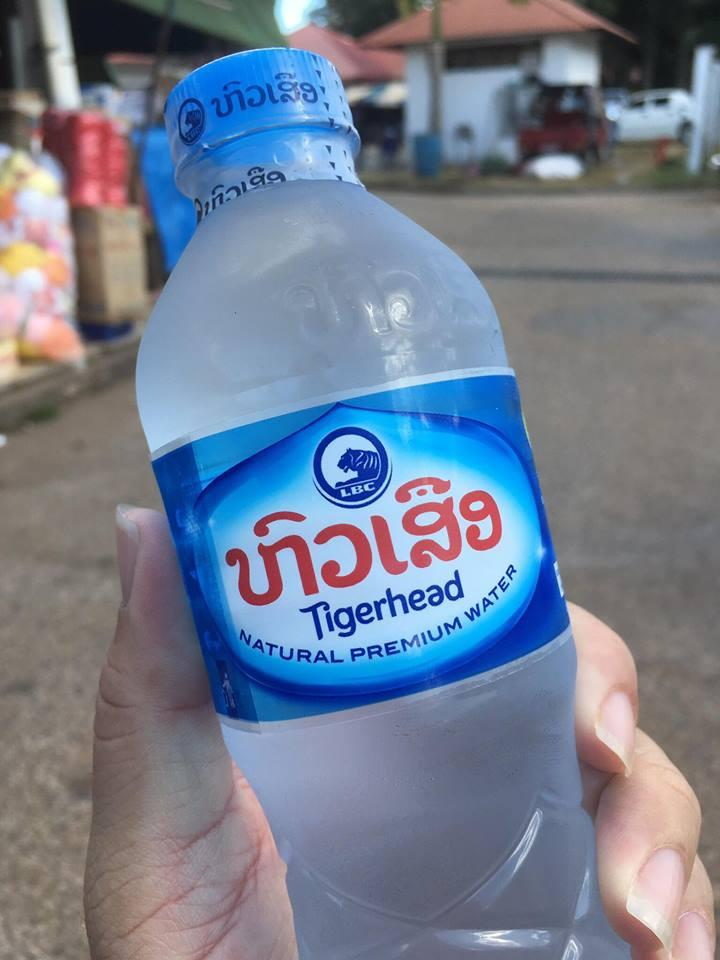bottle: (119, 32, 633, 960)
